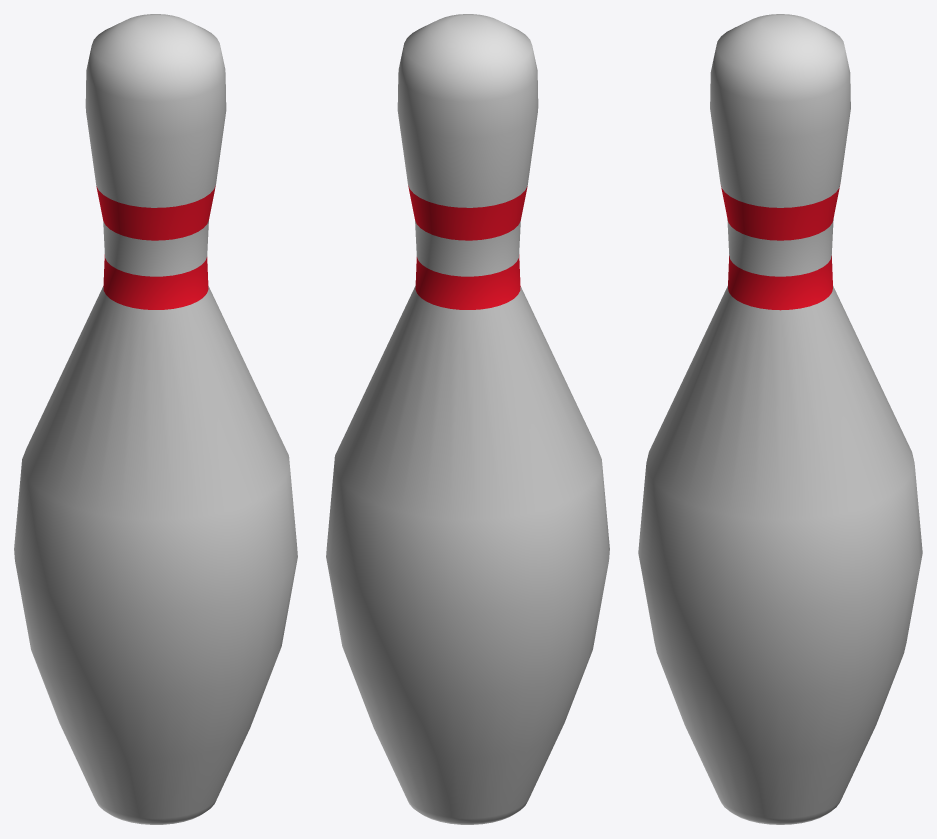
Rendered from Bolo.fbx.
3 views of the same model, side by side, from view 1: azimuth 30°, elevation 25°; view 2: azimuth 150°, elevation 25°; view 3: azimuth 270°, elevation 25° (orthographic).
Parts seen in each view (by area): view 1: Cylinder, Cylinder.001; view 2: Cylinder, Cylinder.001; view 3: Cylinder, Cylinder.001.
Part boxes in pixels (left/top/right/bottom): Cylinder: left=14, top=14, right=297, bottom=824; Cylinder.001: left=14, top=14, right=297, bottom=824; Cylinder: left=326, top=14, right=609, bottom=824; Cylinder.001: left=326, top=14, right=609, bottom=824; Cylinder: left=638, top=14, right=922, bottom=824; Cylinder.001: left=639, top=14, right=920, bottom=823.
Bounding box in the file's own units: 61.18 × 185 × 61.18.
